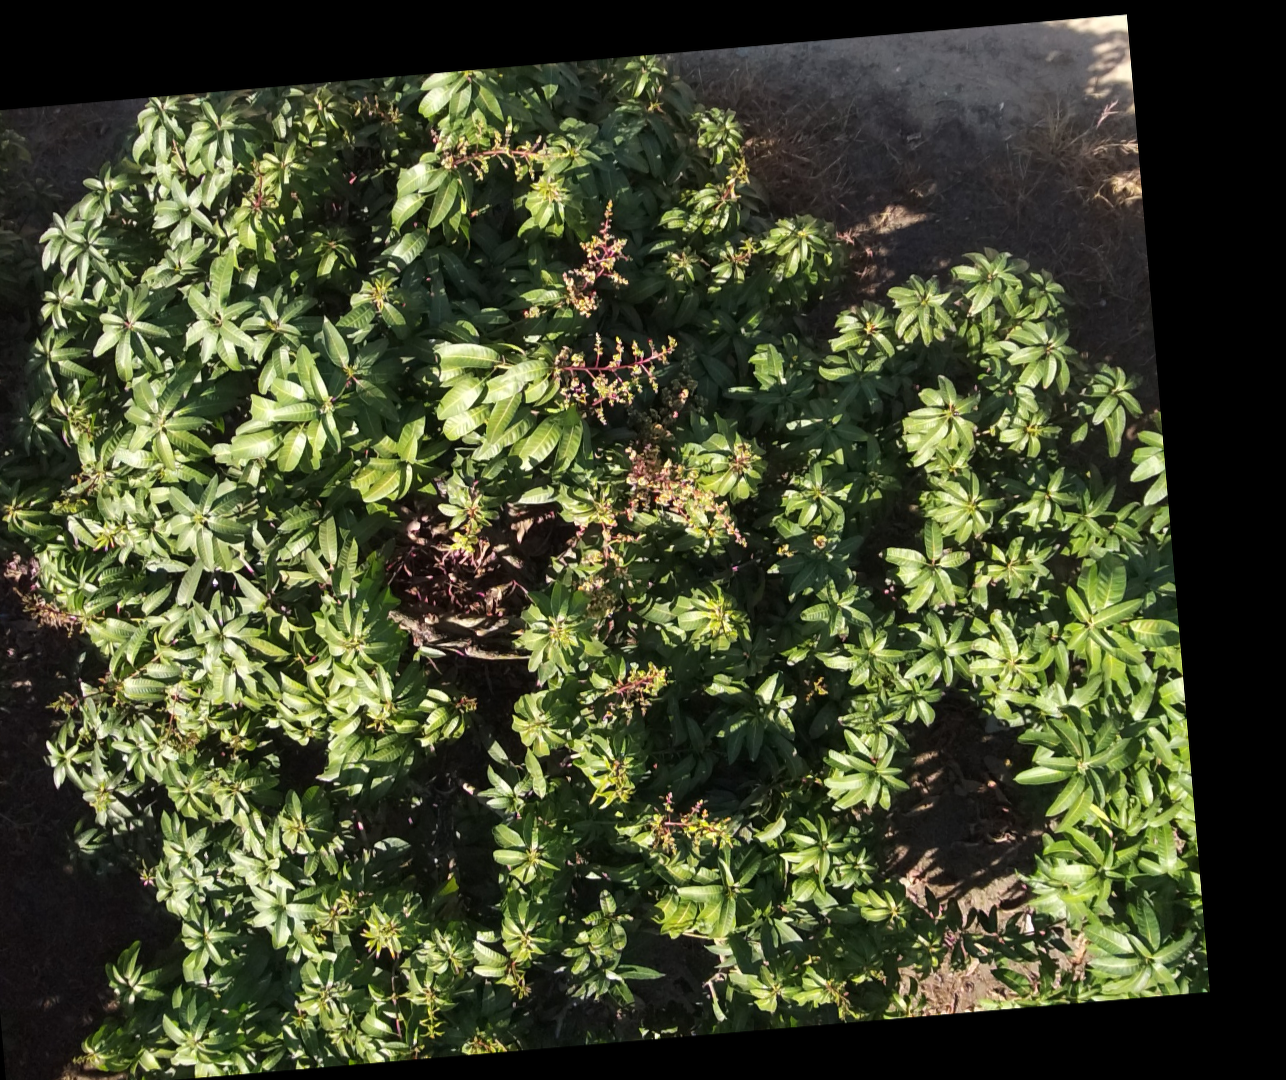flowers: (624, 437, 741, 552), (553, 332, 679, 421), (435, 122, 588, 181), (557, 202, 630, 316), (649, 791, 731, 851), (602, 664, 668, 718)
